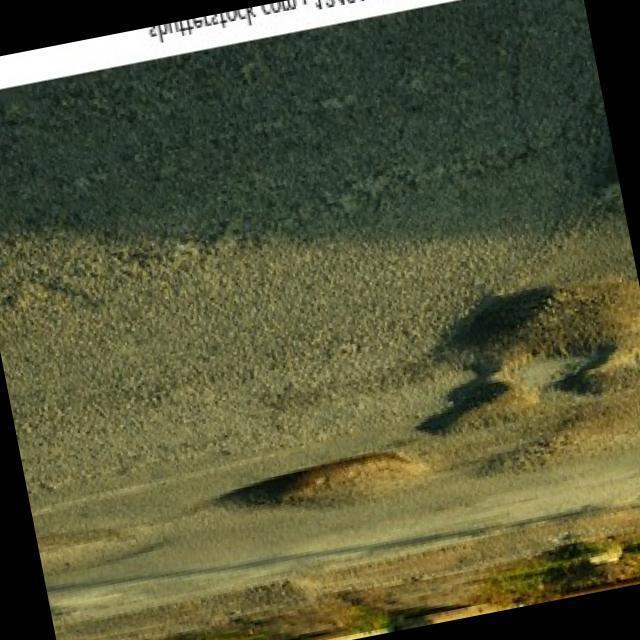Pothole: (37, 451, 432, 574), (416, 282, 640, 436)
